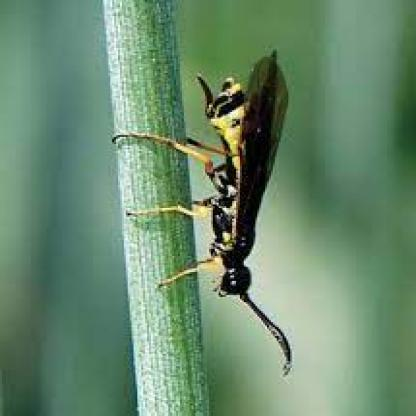sawfly: (115, 44, 308, 374)
